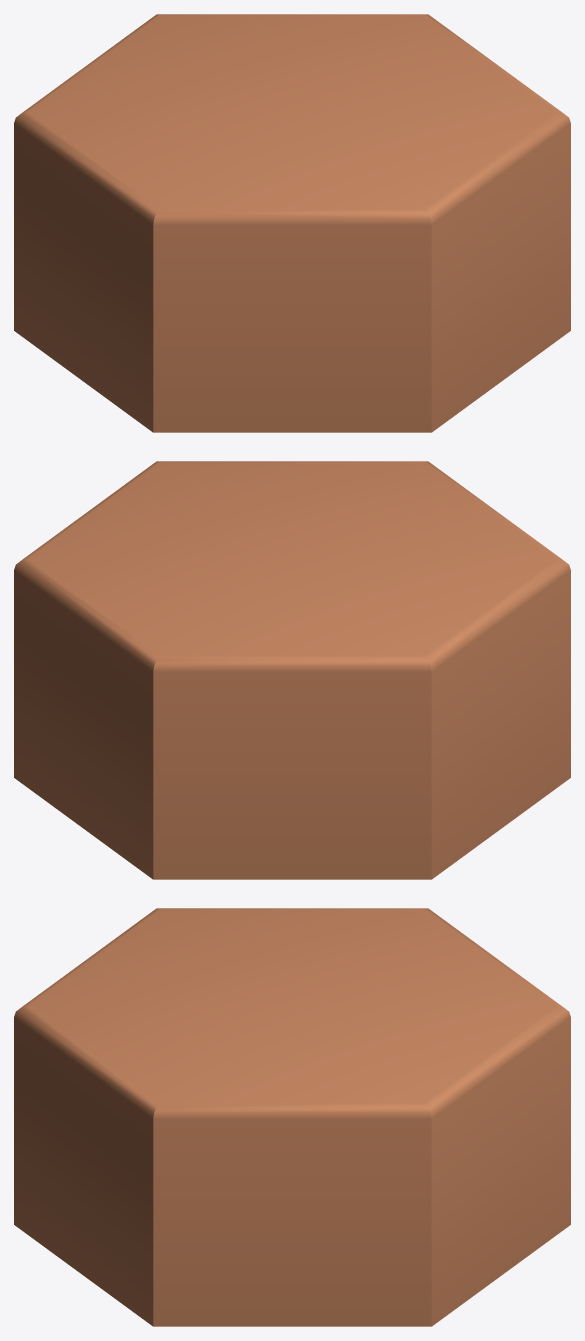
The model's file is hex_rock.glb.
The picture shows the model from 3 angles, top to bottom: view 1: azimuth 30°, elevation 25°; view 2: azimuth 150°, elevation 25°; view 3: azimuth 270°, elevation 25°; orthographic projection.
Visible parts, largest first — view 1: hex_rock; view 2: hex_rock; view 3: hex_rock.
Part boxes in pixels (<box>): hex_rock: <box>14,14,570,432</box>; hex_rock: <box>14,461,570,879</box>; hex_rock: <box>14,908,570,1326</box>.
Bounding box in the file's own units: 3.82 × 1.91 × 4.41.
